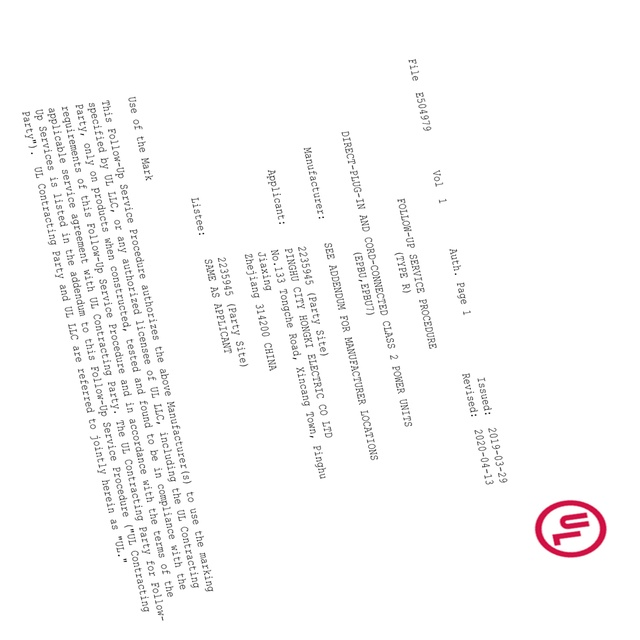ul: (532, 498, 609, 560)
